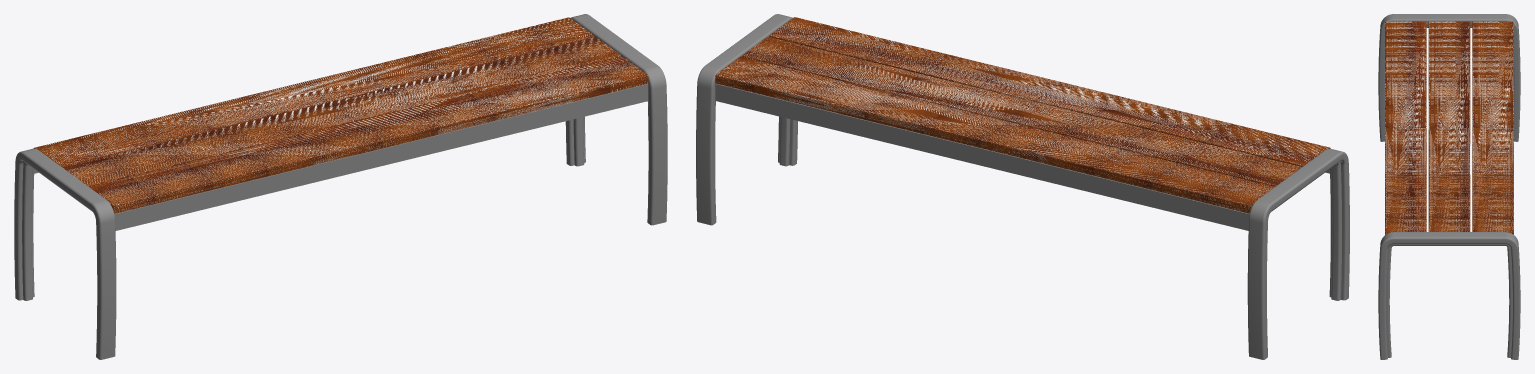
The picture shows the model from 3 angles, left to right: view 1: azimuth 30°, elevation 25°; view 2: azimuth 150°, elevation 25°; view 3: azimuth 270°, elevation 25°; orthographic projection. The views are drawn at different scales.
Visible parts, largest first — view 1: mesh4_mesh4-geometry, mesh3_mesh3-geometry, mesh2_mesh2-geometry, mesh1_mesh1-geometry; view 2: mesh4_mesh4-geometry, mesh2_mesh2-geometry, mesh3_mesh3-geometry, mesh1_mesh1-geometry; view 3: mesh1_mesh1-geometry, mesh3_mesh3-geometry, mesh2_mesh2-geometry, mesh4_mesh4-geometry.
Boxes of the visible parts, x1,y1,x2,y2 form: mesh4_mesh4-geometry: [14, 14, 667, 359]; mesh3_mesh3-geometry: [89, 56, 648, 213]; mesh2_mesh2-geometry: [33, 17, 594, 166]; mesh1_mesh1-geometry: [62, 37, 621, 186]; mesh4_mesh4-geometry: [696, 14, 1349, 359]; mesh2_mesh2-geometry: [715, 56, 1274, 213]; mesh3_mesh3-geometry: [769, 17, 1330, 166]; mesh1_mesh1-geometry: [742, 36, 1301, 186]; mesh1_mesh1-geometry: [1428, 21, 1470, 231]; mesh3_mesh3-geometry: [1385, 21, 1426, 234]; mesh2_mesh2-geometry: [1472, 21, 1513, 234]; mesh4_mesh4-geometry: [1378, 14, 1520, 359].
Size of the model in its own units: 0.9383 by 0.2381 by 0.251.
